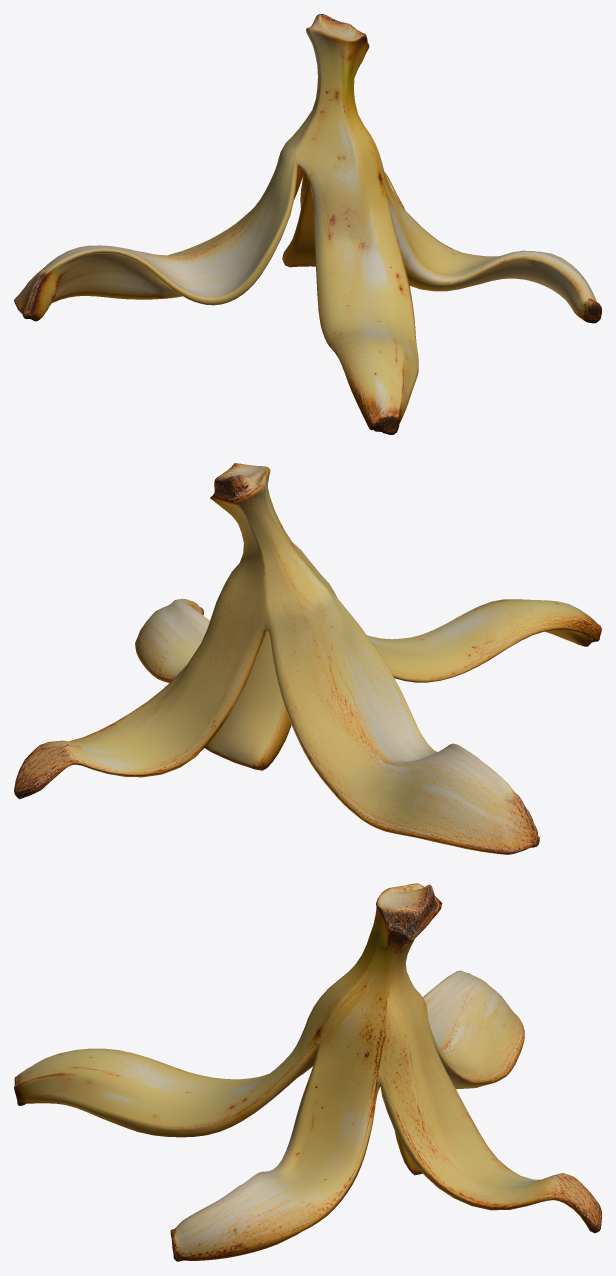
File: Banana.fbx
The picture shows the model from 3 angles, top to bottom: view 1: azimuth 30°, elevation 25°; view 2: azimuth 150°, elevation 25°; view 3: azimuth 270°, elevation 25°; orthographic projection. The views are drawn at different scales.
Parts seen in each view (by area): view 1: tripo_node_d8dbeb75; view 2: tripo_node_d8dbeb75; view 3: tripo_node_d8dbeb75.
Boxes of the visible parts, box(x1,y1,x2,y2) form: tripo_node_d8dbeb75: box(14, 14, 601, 434); tripo_node_d8dbeb75: box(14, 463, 601, 854); tripo_node_d8dbeb75: box(14, 883, 601, 1261).
Bounding box in the file's own units: 97.31 × 99.95 × 54.35.
1 material, 1 textured.
